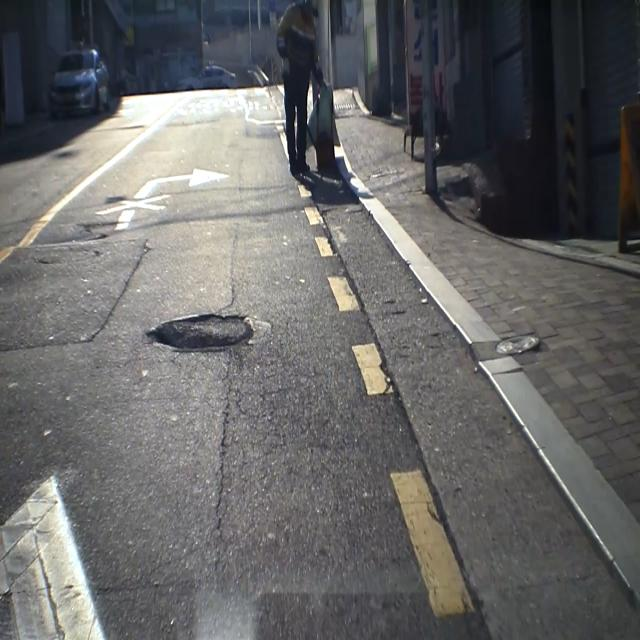Pothole: (143, 299, 274, 362)
